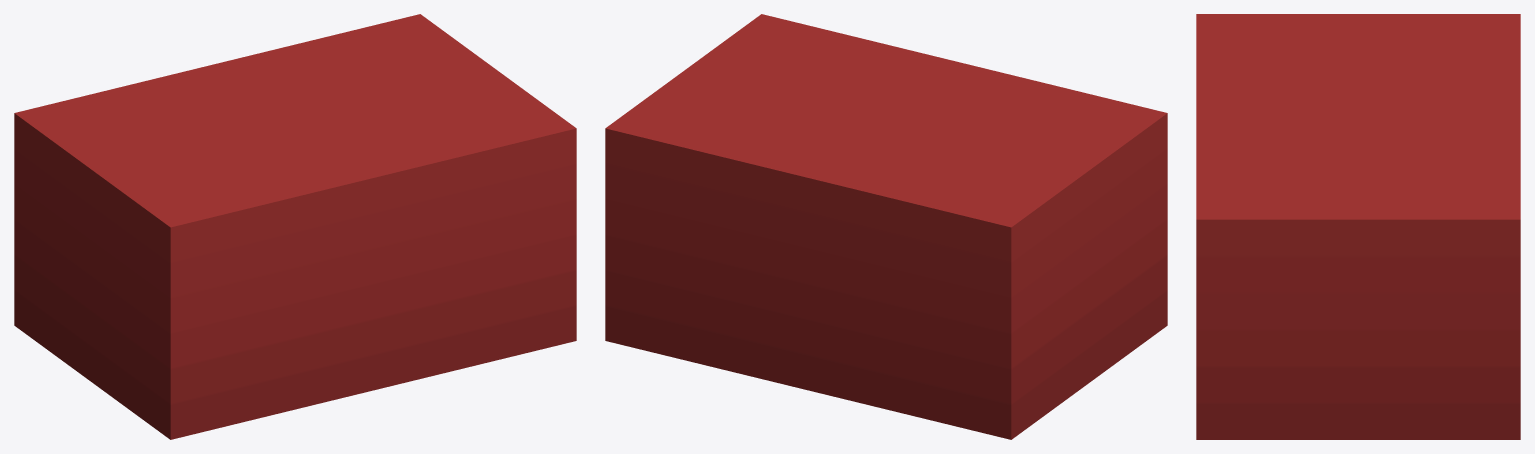
File: Spine055.fbx
3 renders of one model, left to right at view 1: azimuth 30°, elevation 25°; view 2: azimuth 150°, elevation 25°; view 3: azimuth 270°, elevation 25°, orthographic. The views are drawn at different scales.
Parts seen in each view (by area): view 1: Spine055; view 2: Spine055; view 3: Spine055.
Part boxes in pixels (x1=…): Spine055: x1=14, y1=14, x2=576, y2=439; Spine055: x1=605, y1=14, x2=1167, y2=439; Spine055: x1=1196, y1=14, x2=1520, y2=439.
Size of the model in its own units: 12 by 6 by 8.
